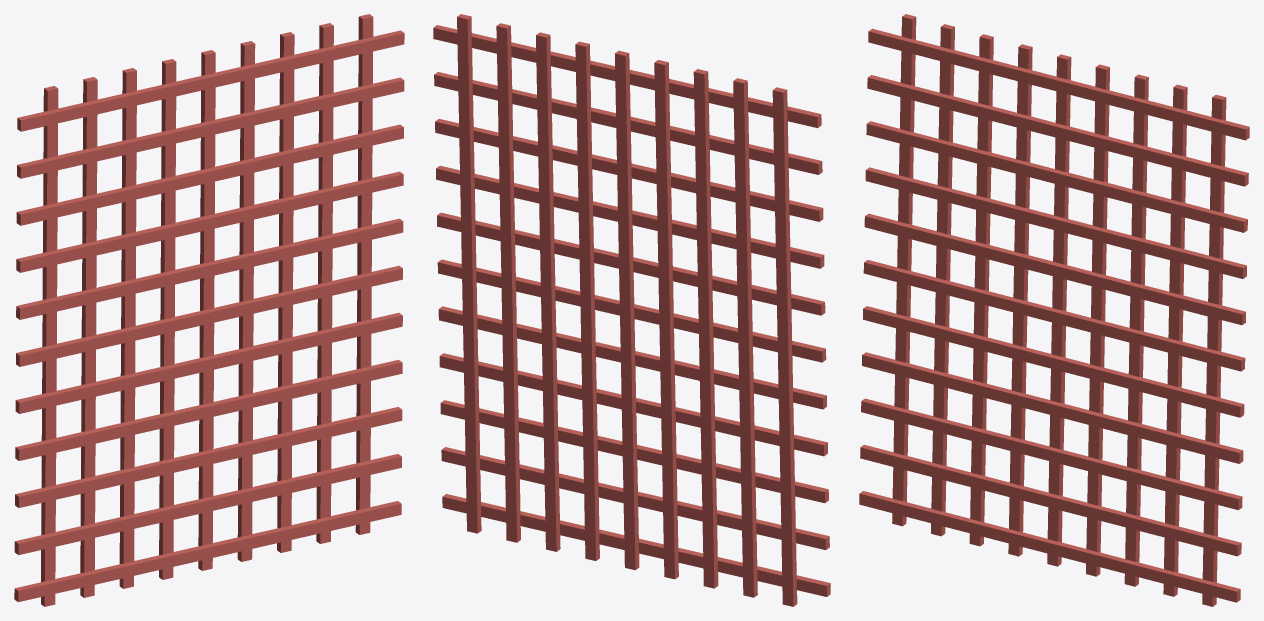
Rendered from Plantfence.fbx.
3 views of the same model, side by side, from view 1: azimuth 30°, elevation 25°; view 2: azimuth 150°, elevation 25°; view 3: azimuth 330°, elevation 25° (orthographic).
Visible parts, largest first — view 1: Cube, Cube.001; view 2: Cube.001, Cube; view 3: Cube, Cube.001.
Part boxes in pixels (<box>): Cube: <box>14,30,404,602</box>; Cube.001: <box>41,14,373,606</box>; Cube.001: <box>457,14,797,606</box>; Cube: <box>433,25,830,596</box>; Cube: <box>859,28,1249,602</box>; Cube.001: <box>892,14,1226,606</box>.
Size of the model in its own units: 1748 by 2219 by 90.28.
